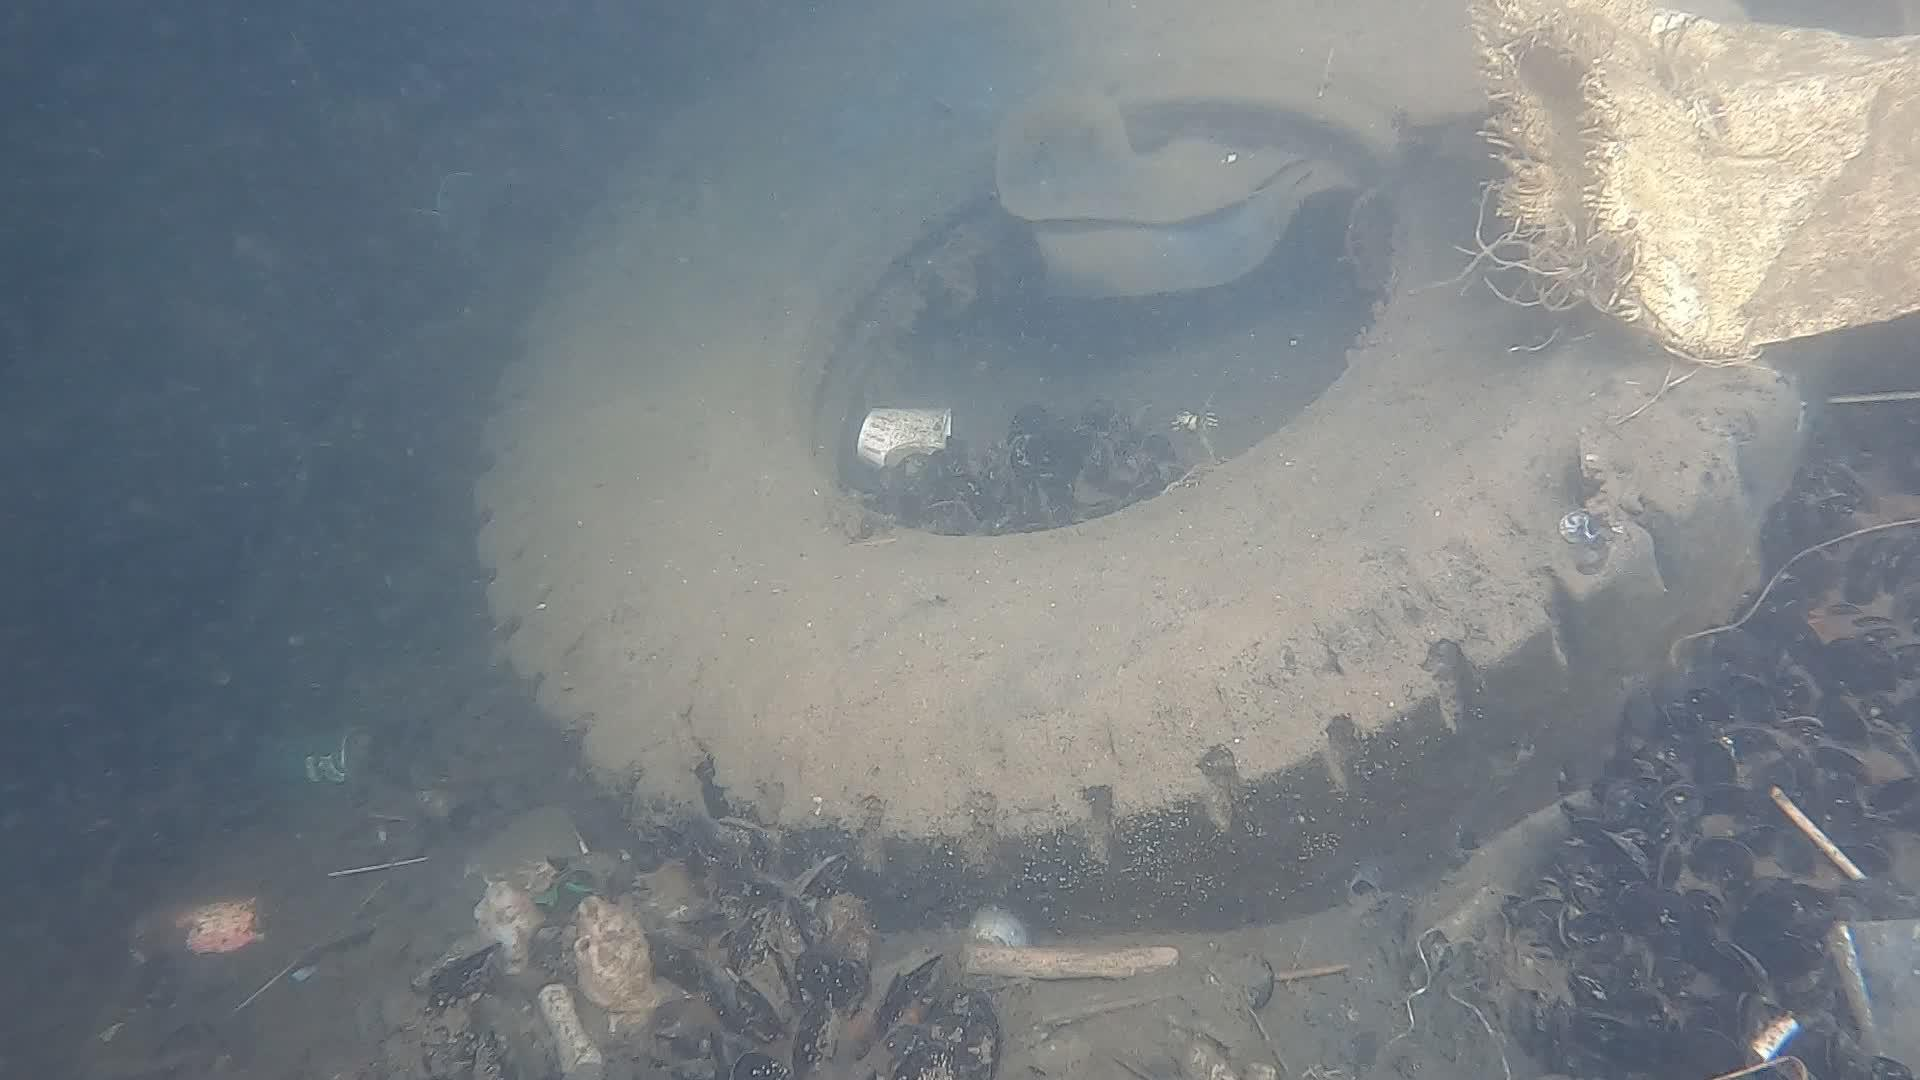tire: (471, 3, 1808, 945)
